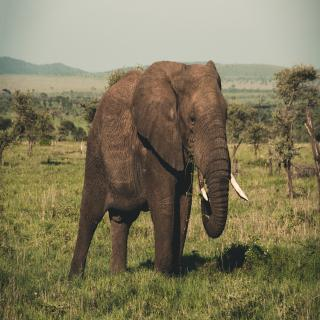Elephant: (71, 60, 252, 286)
